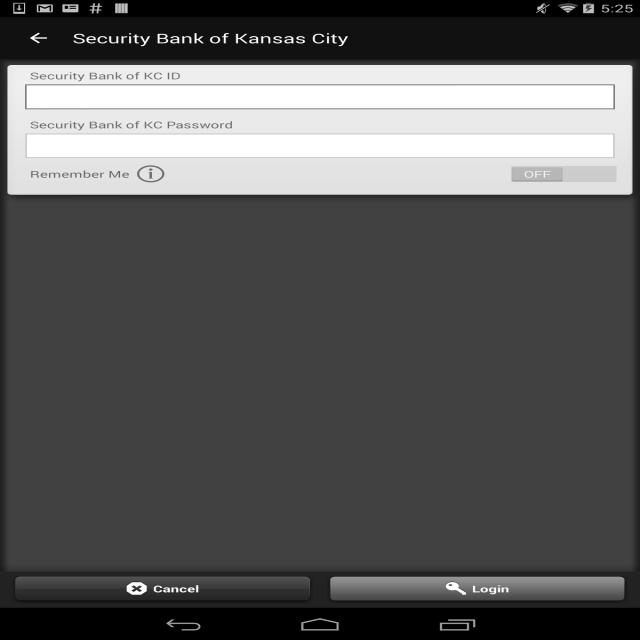EditText: (21, 82, 619, 112), (21, 131, 619, 161)
ImageButton: (9, 19, 68, 57)
ImageView: (130, 161, 172, 187), (126, 581, 148, 595), (444, 581, 466, 595)
Switch: (508, 165, 618, 183)
TextView: (73, 29, 348, 47), (30, 118, 233, 131), (30, 69, 181, 82), (30, 168, 129, 180), (153, 582, 199, 597), (472, 582, 509, 597)
